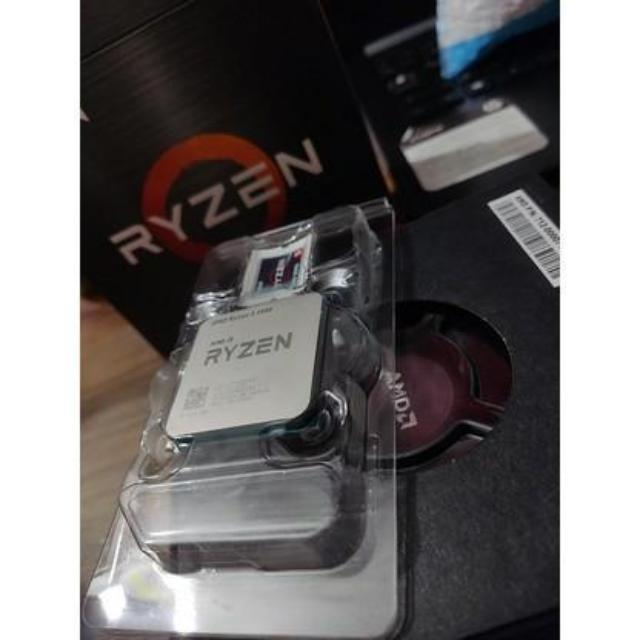CPU: (162, 293, 322, 436)
